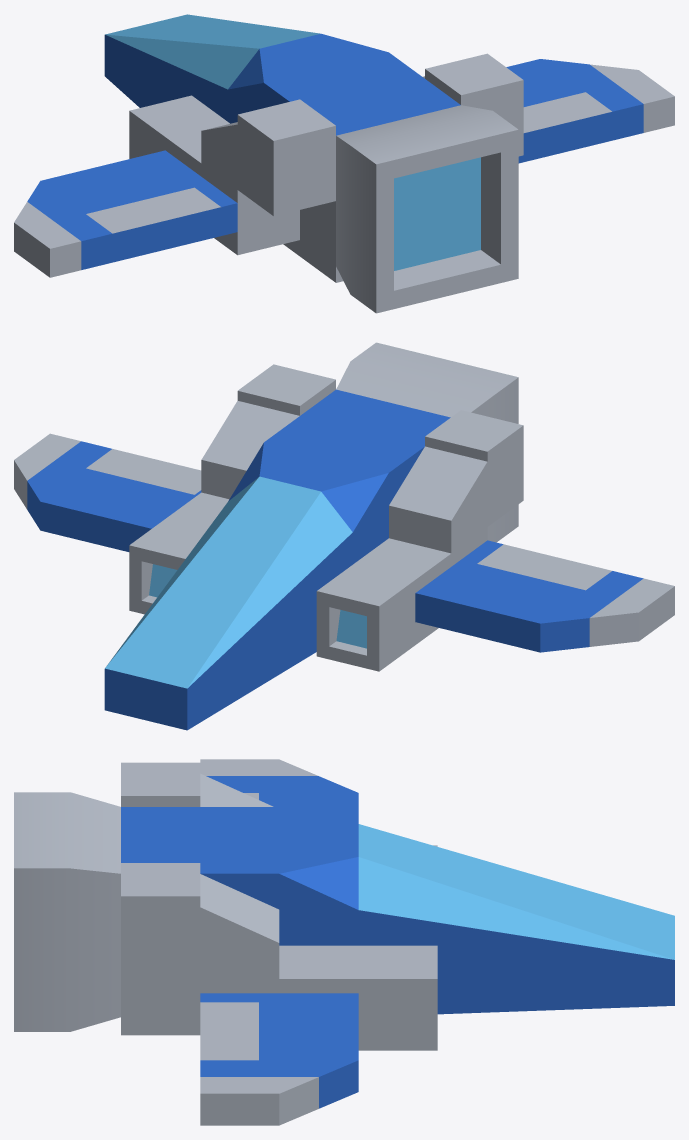
The model's file is player.glb.
3 views of the same model, one above another, from view 1: azimuth 30°, elevation 25°; view 2: azimuth 150°, elevation 25°; view 3: azimuth 270°, elevation 25° (orthographic). The views are drawn at different scales.
Parts seen in each view (by area): view 1: player; view 2: player; view 3: player.
Boxes of the visible parts, x1=… form: player: x1=14, y1=14, x2=674, y2=313; player: x1=14, y1=342, x2=674, y2=730; player: x1=14, y1=759, x2=674, y2=1125.
Bounding box in the file's own units: 2.2 × 0.5291 × 1.84.
